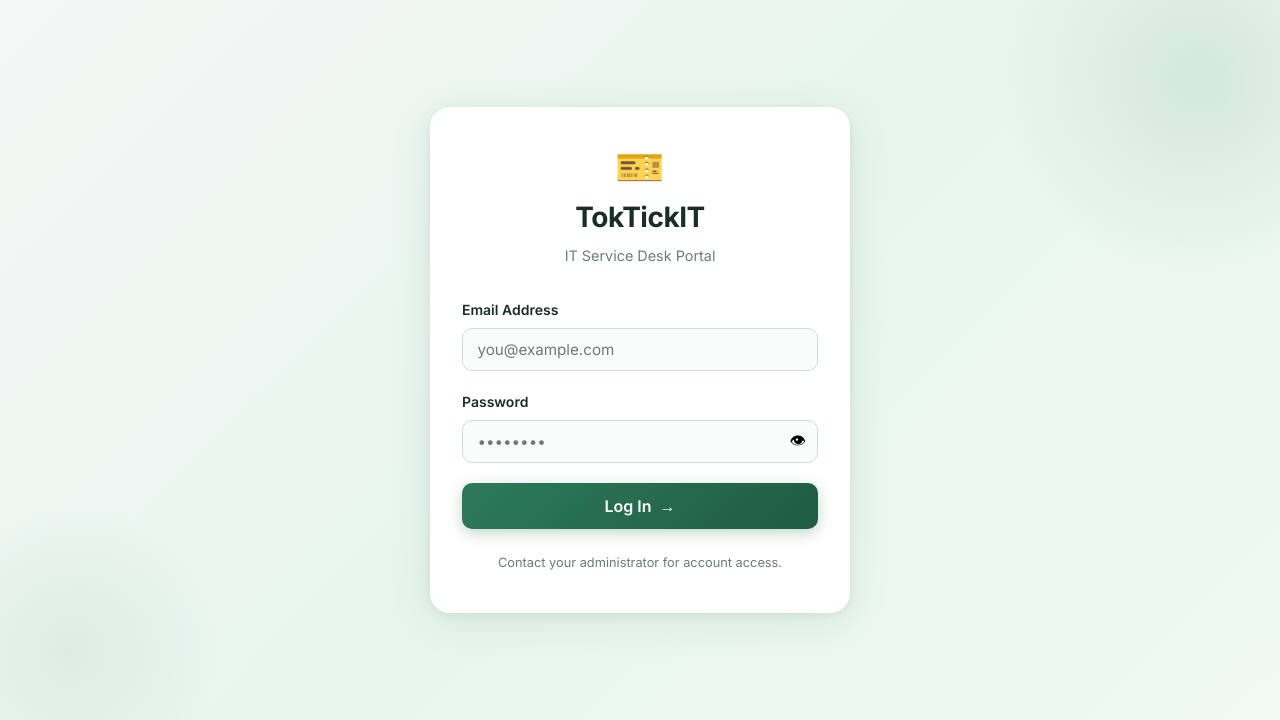
Test: LoginPage (UI-01..UI-04) › UI-04: failed login displays error message
Type "alice@example.com" into the field labelled "Email Address" at [640, 349], box [462,328,818,371]
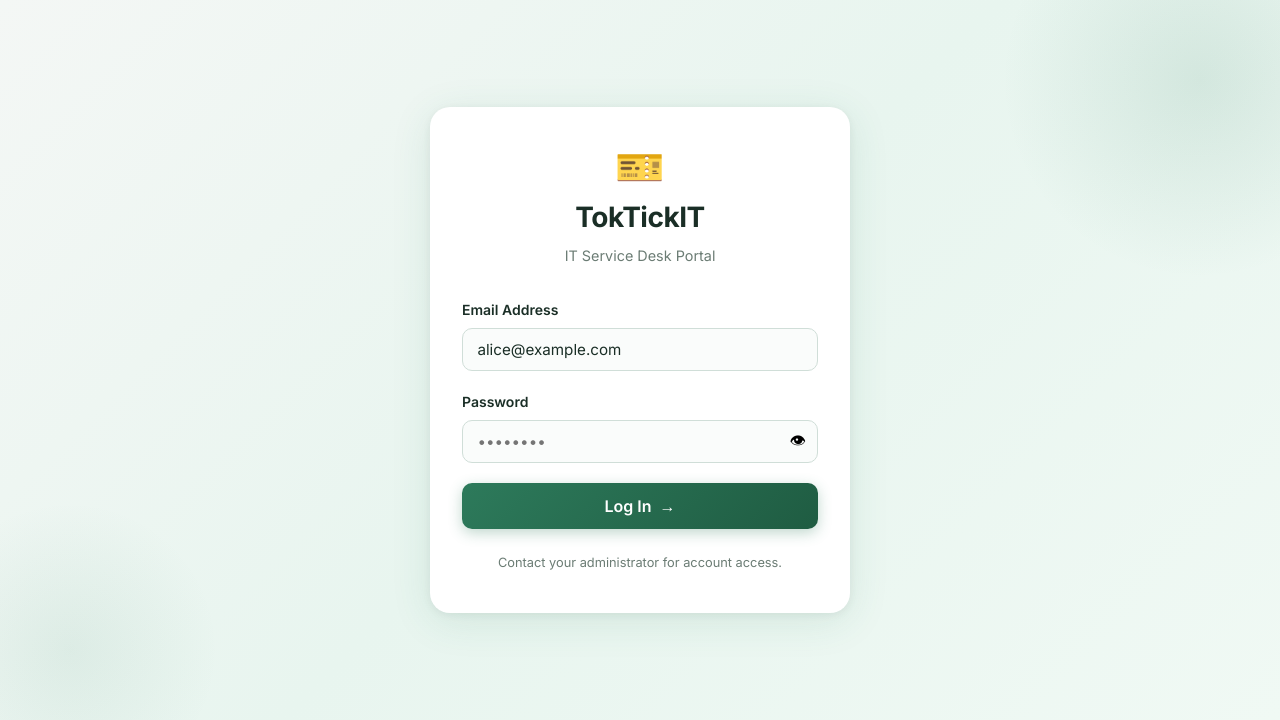
Type "WrongPassword" into the password field labelled "Password" at [640, 441], box [462,420,818,463]
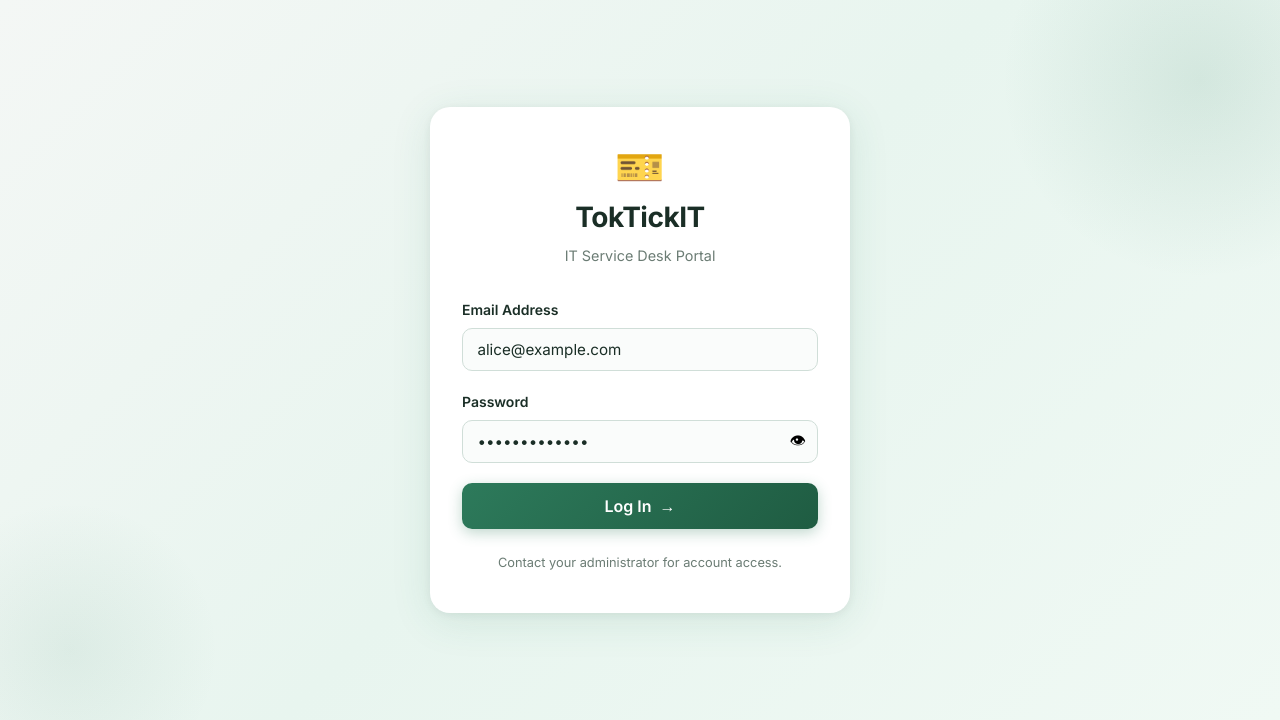
Click the button "Log In →" at [640, 506], box [462,483,818,529]
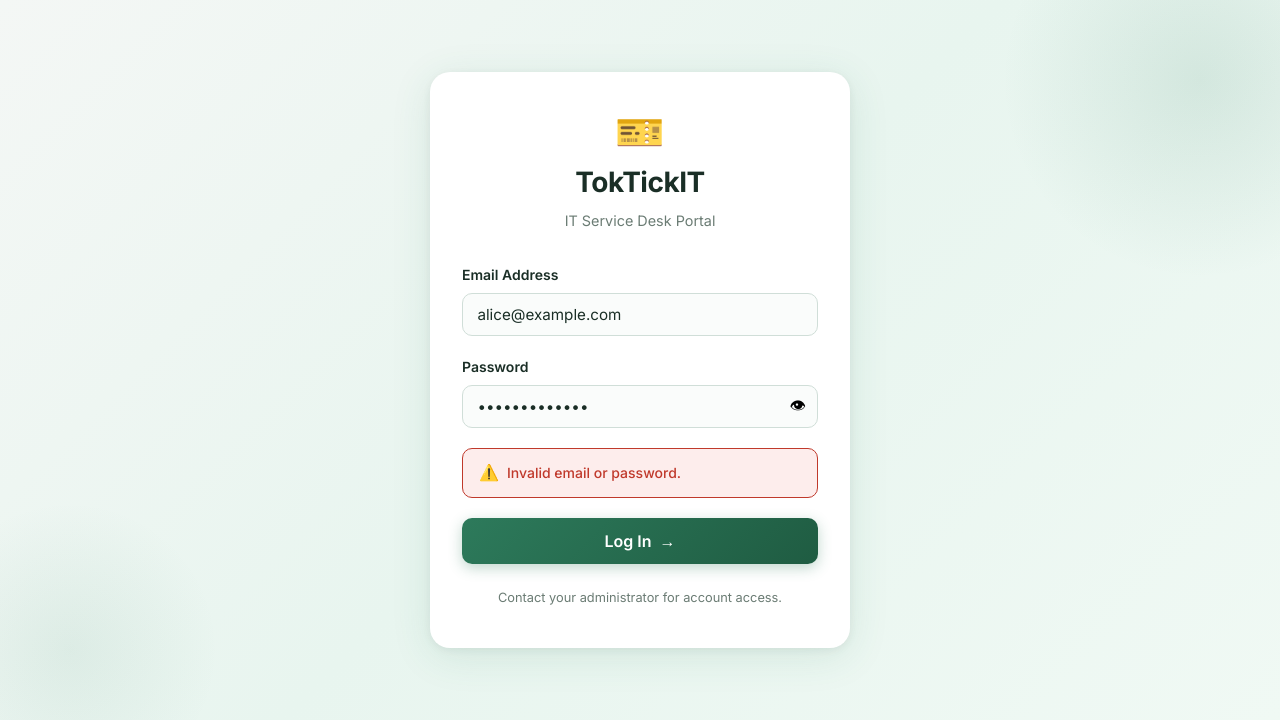
Check: the text "Invalid email or password." is shown, box [507,462,681,484]
